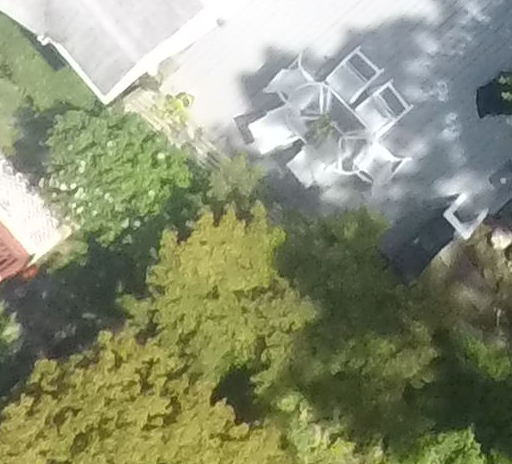chair: (343, 124, 426, 200), (350, 67, 414, 138), (254, 55, 324, 111), (247, 97, 317, 153), (326, 35, 380, 103)
table: (274, 74, 380, 185)
